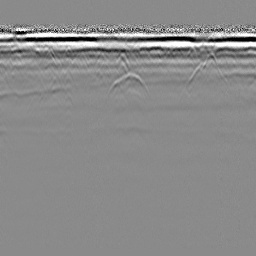cavity: (106, 68, 151, 99)
